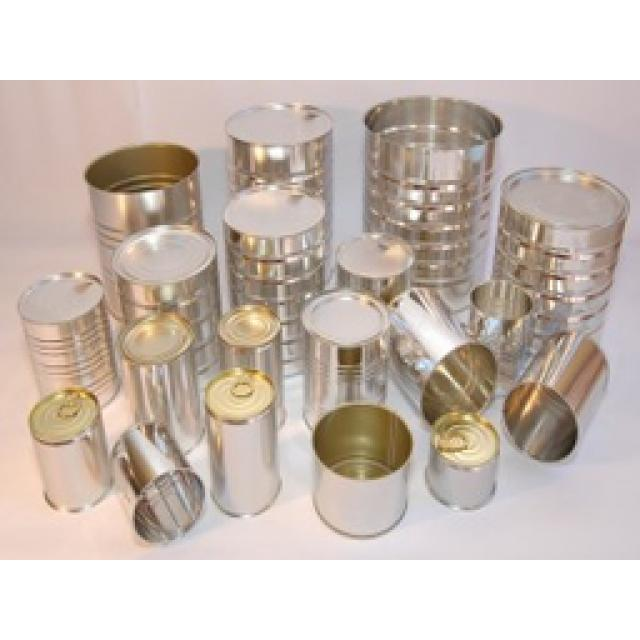alumunium: (18, 98, 500, 540), (510, 178, 622, 232)
